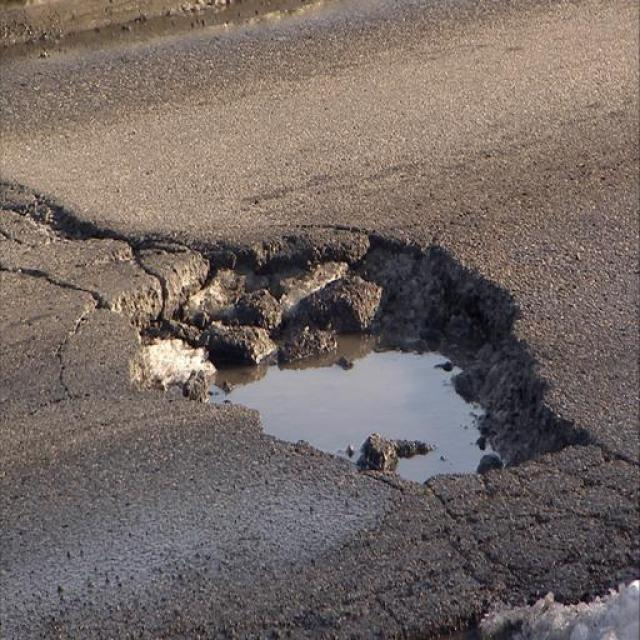puddle: (246, 339, 501, 476)
